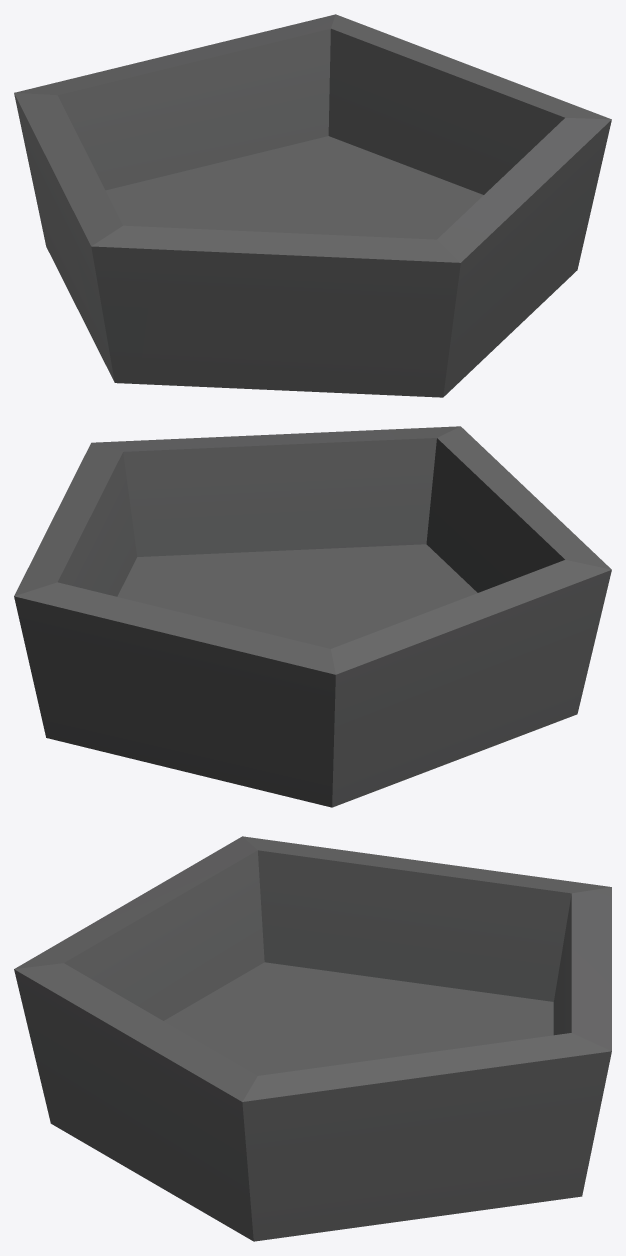
The model's file is Ashtray_1_A.glb.
3 renders of one model, top to bottom at view 1: azimuth 30°, elevation 25°; view 2: azimuth 150°, elevation 25°; view 3: azimuth 270°, elevation 25°, orthographic. The views are drawn at different scales.
Parts seen in each view (by area): view 1: Ashtray_1_A; view 2: Ashtray_1_A; view 3: Ashtray_1_A.
Boxes of the visible parts, x1,y1,x2,y2 form: Ashtray_1_A: [14, 14, 611, 397]; Ashtray_1_A: [14, 426, 611, 807]; Ashtray_1_A: [14, 836, 611, 1241].
Size of the model in its own units: 0.1872 by 0.0527 by 0.178.
1 material, 1 textured.
